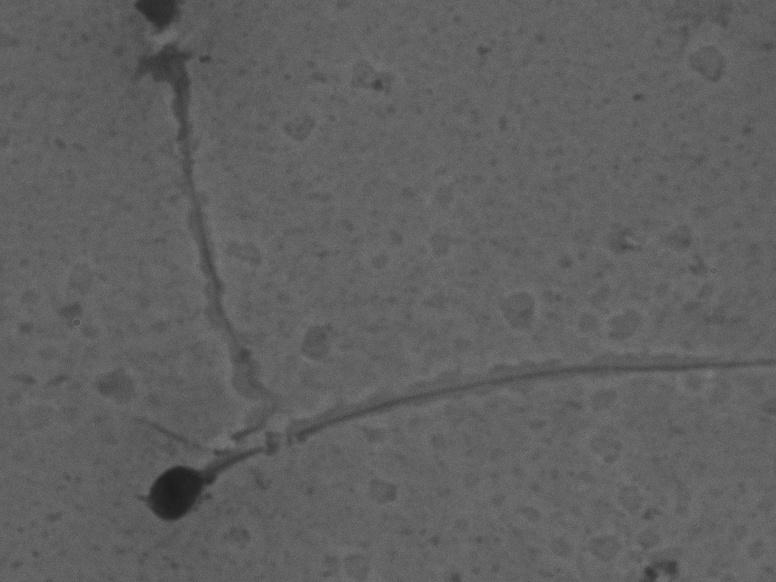Abnormal: (128, 328, 743, 561)
